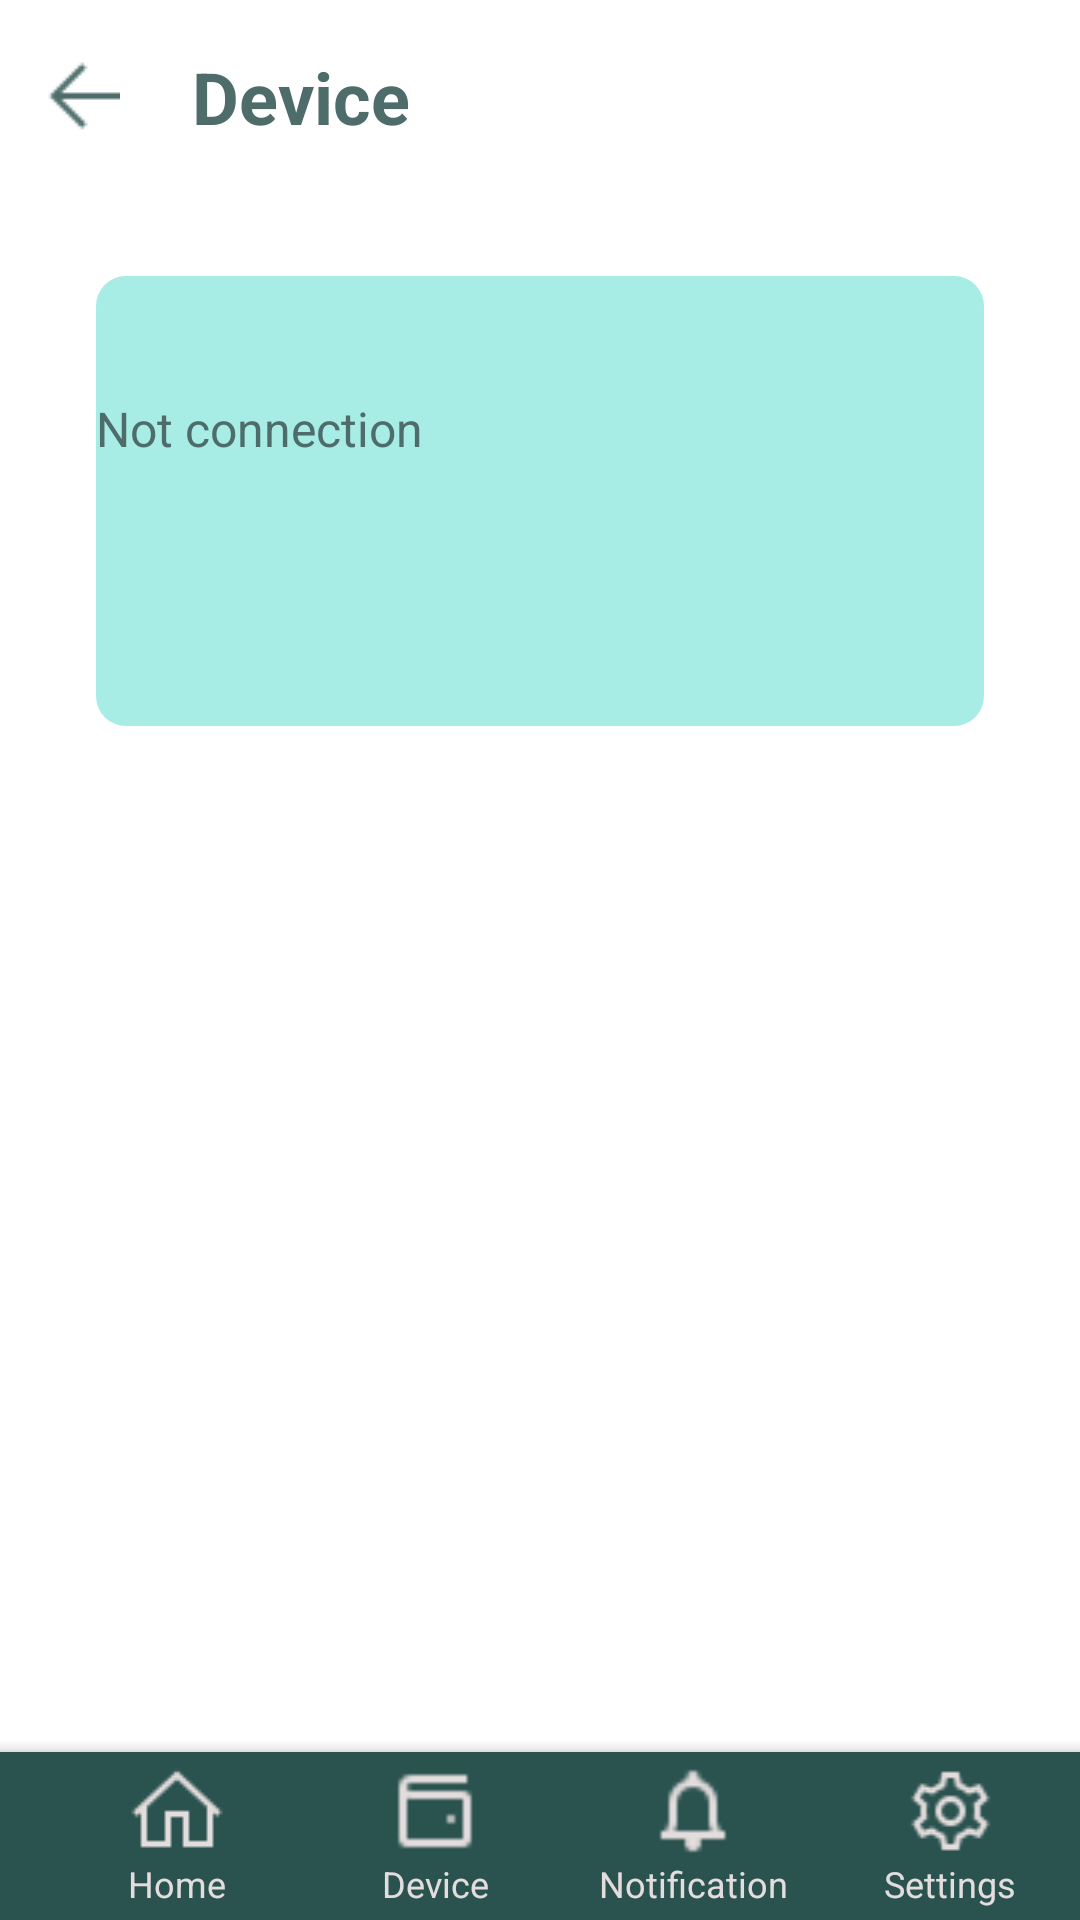

Icon bounding boxes for this 1080w x 1920h phone screenshot, format (x1,y1,x2,y2):
left: (50,62,120,129)
wallet: (398,1774,472,1848)
